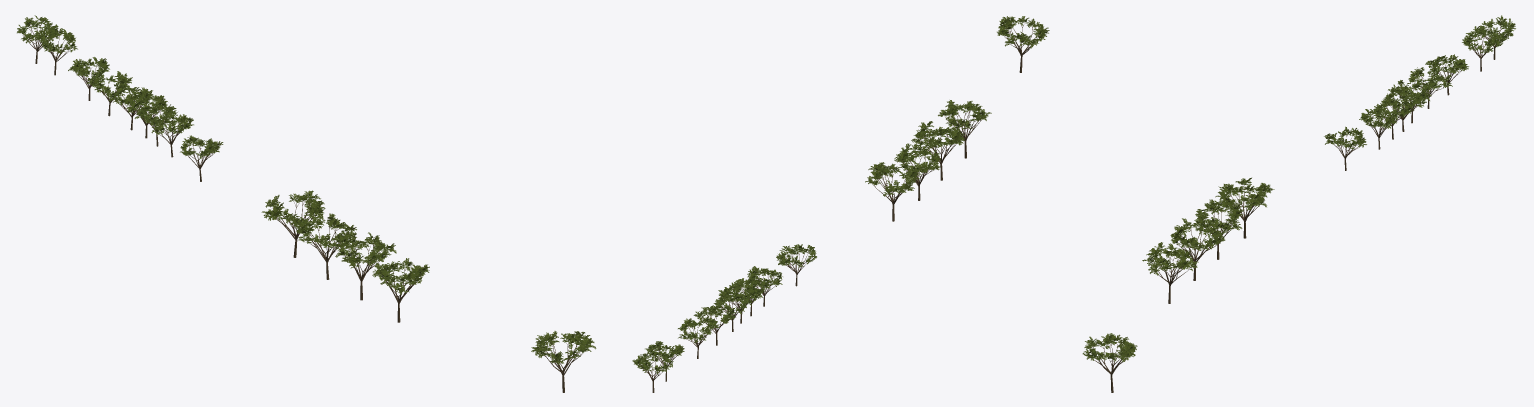
The picture shows the model from 3 angles, left to right: view 1: azimuth 30°, elevation 25°; view 2: azimuth 150°, elevation 25°; view 3: azimuth 330°, elevation 25°; orthographic projection. The views are drawn at different scales.
Parts seen in each view (by area): view 1: geometry_1, geometry_0; view 2: geometry_1, geometry_0; view 3: geometry_1, geometry_0.
Part boxes in pixels (x1,y1,x2,y2): geometry_1: [17, 15, 596, 364]; geometry_0: [23, 22, 585, 392]; geometry_1: [632, 16, 1049, 373]; geometry_0: [638, 25, 1039, 392]; geometry_1: [1082, 15, 1515, 361]; geometry_0: [1090, 24, 1508, 392].
Size of the model in its own units: 21.49 by 10.39 by 153.
2 materials, 2 textured.
